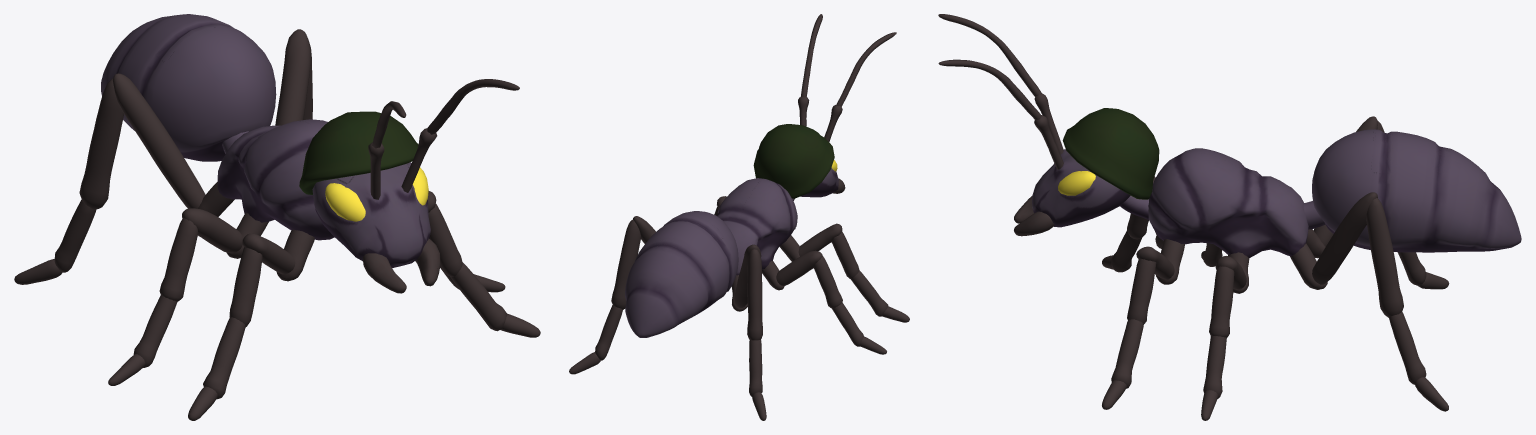
File: SM_ShadowArmyAnt_01_Old.fbx
The picture shows the model from 3 angles, left to right: view 1: azimuth 30°, elevation 25°; view 2: azimuth 150°, elevation 25°; view 3: azimuth 270°, elevation 25°; orthographic projection. The views are drawn at different scales.
Parts seen in each view (by area): view 1: Abdomen2, Thorax, Head, Army_Helmet, R3_02, R3_03, L3_02, R2_03, Mandables, R1_03, R1_04, L1_04 (+17 smaller); view 2: Abdomen2, Thorax, Army_Helmet, R3_03, L3_03, R2_02, R2_03, R3_04, L3_04, R1_03, R1_04, R1_02 (+8 smaller); view 3: Abdomen2, Thorax, Army_Helmet, Head, L3_03, L3_02, L2_03, L1_03, L3_04, L1_04, Antennea_R2, L2_04 (+10 smaller).
Boxes of the visible parts, x1,y1,x2,y2 form: Abdomen2: (101, 14, 276, 161); Thorax: (217, 119, 334, 240); Head: (312, 162, 430, 267); Army_Helmet: (299, 111, 418, 194); R3_02: (112, 73, 205, 208); R3_03: (79, 78, 123, 209); L3_02: (275, 29, 310, 125); R2_03: (159, 218, 198, 301); Mandables: (363, 238, 440, 293); R1_03: (229, 247, 262, 326); R1_04: (203, 317, 245, 399); L1_04: (450, 262, 507, 331); Abdomen2: (625, 211, 738, 337); Thorax: (717, 178, 797, 275); Army_Helmet: (753, 124, 834, 198); R3_03: (747, 249, 762, 340); L3_03: (611, 219, 640, 309); R2_02: (776, 250, 822, 286); R2_03: (813, 256, 842, 308); R3_04: (749, 340, 762, 396); L3_04: (595, 305, 622, 360); R1_03: (831, 231, 859, 279); R1_04: (851, 270, 888, 316); R1_02: (798, 223, 842, 256); Abdomen2: (1312, 129, 1521, 252); Thorax: (1148, 148, 1308, 258); Army_Helmet: (1062, 108, 1159, 199); Head: (1032, 149, 1130, 227); L3_03: (1366, 198, 1403, 317); L3_02: (1312, 192, 1377, 284); L2_03: (1209, 266, 1234, 337); L1_03: (1127, 259, 1156, 323); L3_04: (1389, 312, 1426, 384); L1_04: (1111, 319, 1143, 388); Antennea_R2: (938, 14, 1041, 96); L2_04: (1203, 336, 1226, 398).
Bounding box in the file's own units: 23.65 × 20.7 × 35.1.
42 materials, 42 textured.
